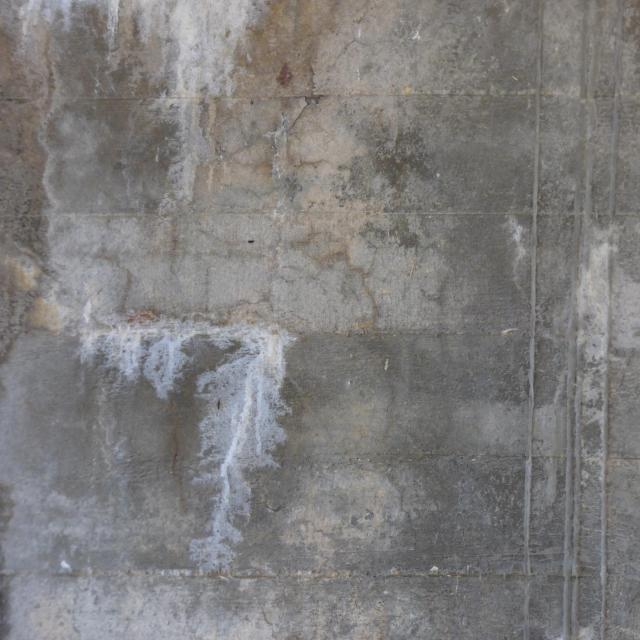diagonal crack: (97, 215, 136, 318)
